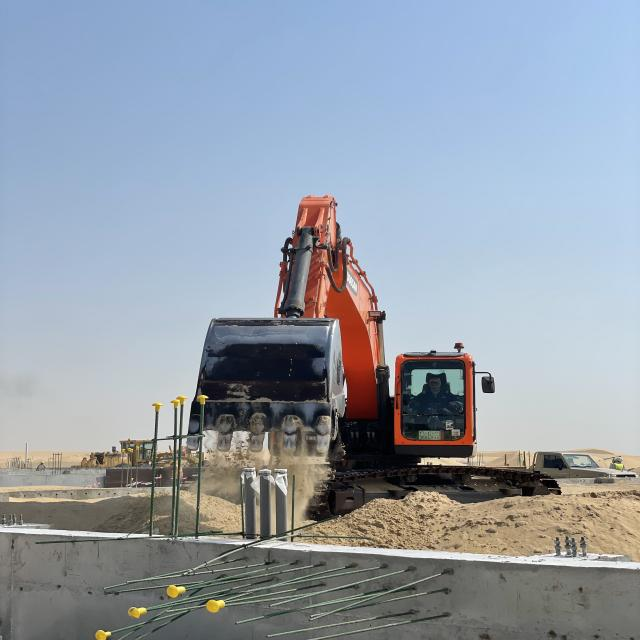Excavator: (187, 195, 499, 464)
